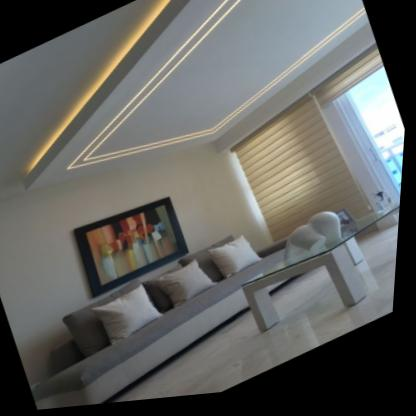Gypsum Board: (0, 0, 396, 265)
